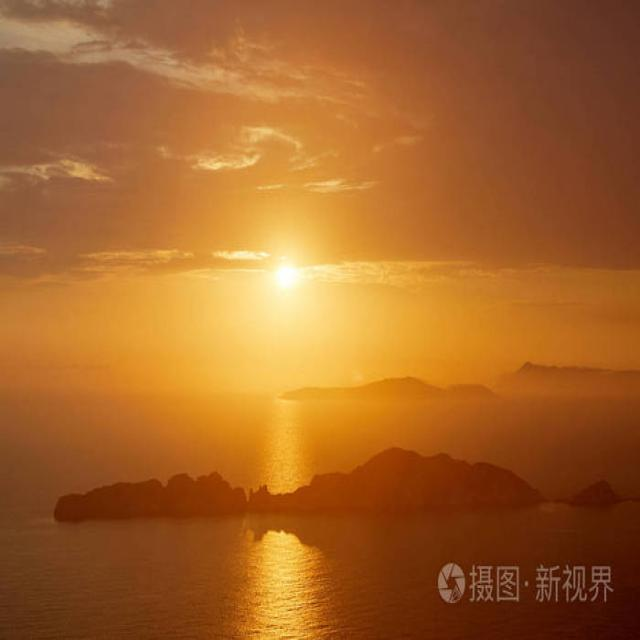island: (42, 424, 618, 529)
